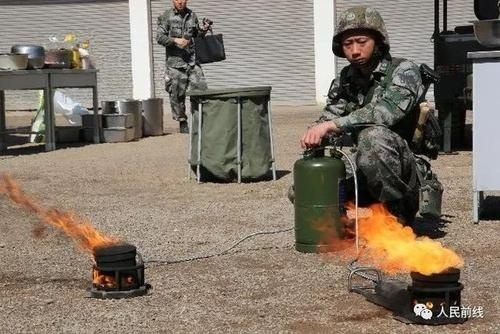fire: (1, 161, 126, 290), (324, 199, 463, 275)
